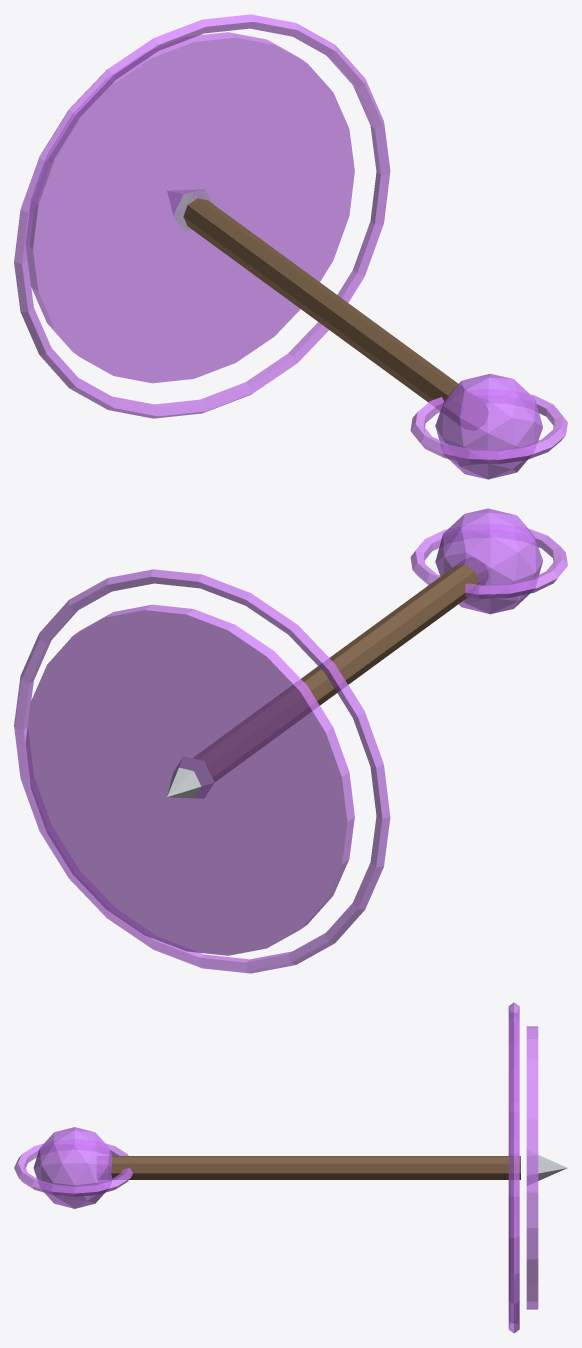
File: weapon_pickup_void_staff_epic.glb
3 renders of one model, top to bottom at view 1: azimuth 30°, elevation 25°; view 2: azimuth 150°, elevation 25°; view 3: azimuth 270°, elevation 25°, orthographic. The views are drawn at different scales.
Parts seen in each view (by area): view 1: rarity_base_disc, rarity_orbit_ring, staff, orb, orb_ring, bottom_cap; view 2: rarity_base_disc, rarity_orbit_ring, staff, orb, orb_ring, bottom_cap; view 3: staff, orb, rarity_orbit_ring, rarity_base_disc, orb_ring, bottom_cap.
Boxes of the visible parts, x1=… form: rarity_base_disc: x1=26, y1=32, x2=354, y2=383; rarity_orbit_ring: x1=14, y1=14, x2=390, y2=418; staff: x1=183, y1=198, x2=458, y2=410; orb: x1=435, y1=373, x2=542, y2=479; orb_ring: x1=410, y1=394, x2=567, y2=464; bottom_cap: x1=167, y1=189, x2=213, y2=231; rarity_base_disc: x1=25, y1=604, x2=354, y2=955; rarity_orbit_ring: x1=14, y1=569, x2=390, y2=973; staff: x1=194, y1=564, x2=479, y2=781; orb: x1=435, y1=508, x2=542, y2=614; orb_ring: x1=410, y1=528, x2=567, y2=598; bottom_cap: x1=167, y1=757, x2=213, y2=798; staff: x1=111, y1=1156, x2=520, y2=1179; orb: x1=33, y1=1127, x2=112, y2=1208; rarity_orbit_ring: x1=508, y1=1002, x2=519, y2=1333; rarity_base_disc: x1=526, y1=1026, x2=538, y2=1309; orb_ring: x1=14, y1=1143, x2=132, y2=1196; bottom_cap: x1=527, y1=1150, x2=567, y2=1185.
Size of the model in its own units: 1.45 by 1.45 by 2.42.
